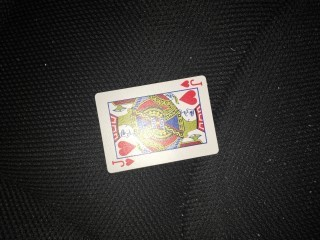JackOfHearts: (94, 75, 219, 174)
